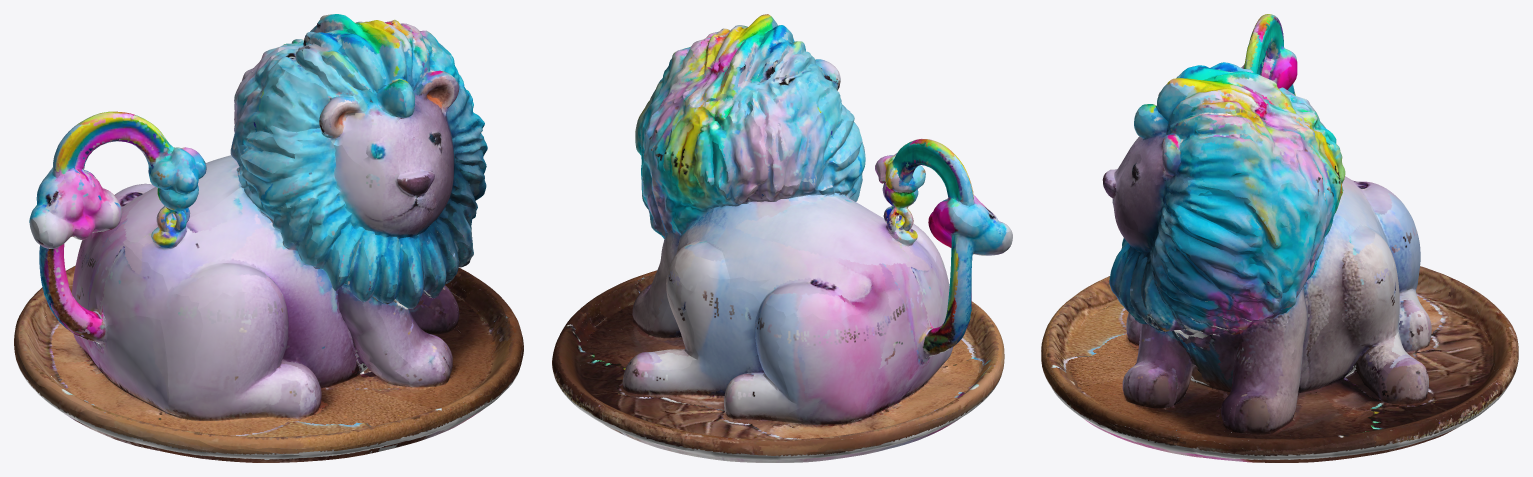
File: text2tex.glb
3 renders of one model, left to right at view 1: azimuth 30°, elevation 25°; view 2: azimuth 150°, elevation 25°; view 3: azimuth 270°, elevation 25°, orthographic. The views are drawn at different scales.
Visible parts, largest first — view 1: 9; view 2: 9; view 3: 9.
Part boxes in pixels (x1,y1,x2,y2): 9: (14, 14, 523, 462); 9: (552, 14, 1012, 462); 9: (1041, 14, 1518, 462).
Size of the model in its own units: 1 by 0.7171 by 0.9522.
Materials: 1 (1 with a texture image).
